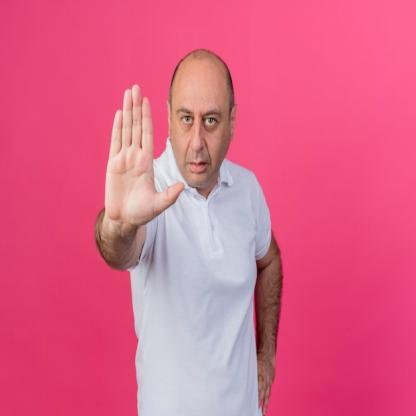stop: (104, 82, 186, 232)
